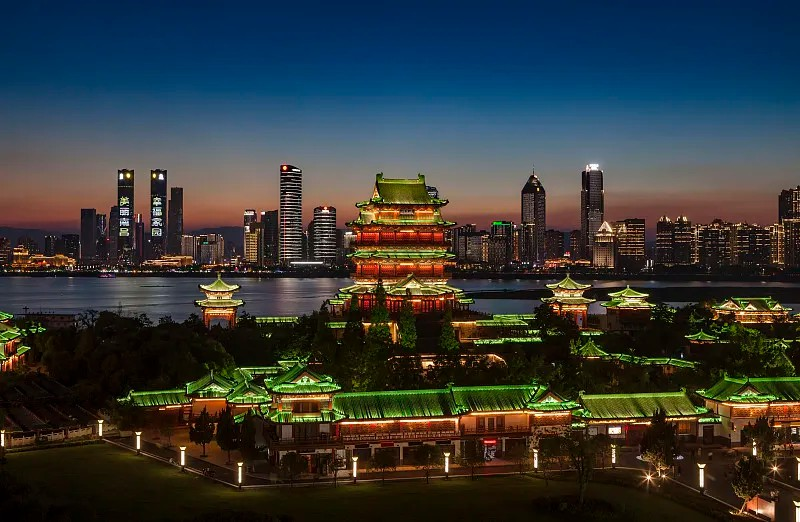Teng: (329, 172, 475, 316)
